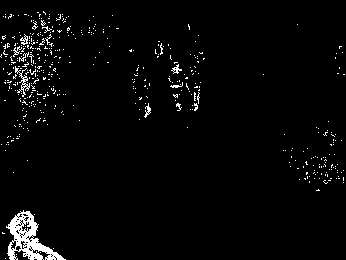person: (6, 209, 69, 260), (170, 60, 185, 112)
